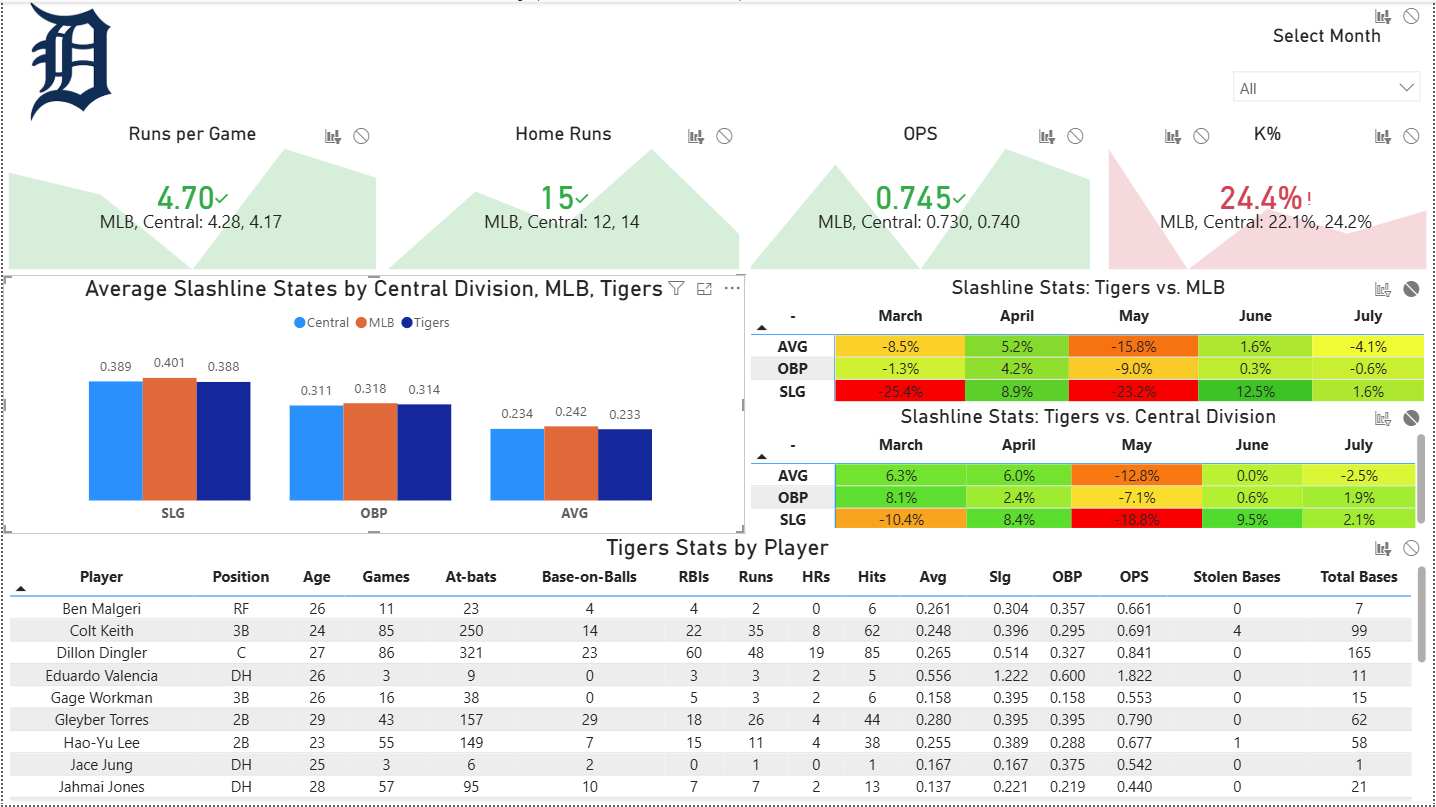

This screenshot's page, from the dashboard's own definition file:
{"tool":"powerbi","page":{"name":"Offensive Stats","canvas":[1280,720],"ordinal":0},"visuals":[{"type":"tableEx","title":"Tigers Stats by Player","fields":{"Values":["tigers players hitting.player","tigers players hitting.position","tigers players hitting.age","tigers players hitting.gamesPlayed","tigers players hitting.atBats","tigers players hitting.baseOnBalls","tigers players hitting.rbi","tigers players hitting.runs","tigers players hitting.homeRuns","tigers players hitting.hits","tigers players hitting.avg","tigers players hitting.slg"]},"box":[0,483.6,1280,236.7],"z":0},{"type":"slicer","title":"Select Month","fields":{"Values":["BridgeTable.MonthName"]},"box":[1026.6,0,253.4,107.7],"z":1000},{"type":"kpi","title":"Home Runs","fields":{"Indicator":["BridgeTable.3TigersHRs"],"Goal":["BridgeTable.3CentralHRs","BridgeTable.3MLBHRs"],"TrendLine":["BridgeTable.MonthName"]},"box":[227.4,117,254.3,127.2],"z":2000},{"type":"kpi","title":"OPS","fields":{"Goal":["Avg(CentralHitting2026.OPS)","Avg(MLBHitting2026.OPS)"],"TrendLine":["BridgeTable.MonthName"],"Indicator":["Avg(TigersHitting2026.OPS)"]},"box":[481.7,117,246.9,127.2],"z":3000},{"type":"kpi","title":"K%","fields":{"Goal":["BridgeTable.2MLBK%","BridgeTable.2CentralK%"],"Indicator":["BridgeTable.2TigersK%"],"TrendLine":["BridgeTable.MonthName"]},"box":[728.6,117,246,127.2],"z":4000},{"type":"image","box":[0,0,122.5,117],"z":5000},{"type":"textbox","box":[122.5,0,663.7,117],"z":6000},{"type":"clusteredColumnChart","title":"Average Slashline Stats by Central Division, MLB, Tigers","fields":{"Y":["Avg(TigersCentralMLB.Value)"],"Category":["TigersCentralMLB.Slashline"],"Series":["TigersCentralMLB.Category"]},"box":[0,243.6,664.5,240],"z":7000},{"type":"pivotTable","title":"Slashline Stats: Tigers vs. MLB","fields":{"Columns":["BridgeTable.MonthName"],"Rows":["TigersCentralMLB.Slashline"],"Values":["TigersCentralMLB.%Diff TigersVsMLB"]},"box":[664.5,243.6,615.2,120],"z":8000},{"type":"kpi","title":"Runs per Game","fields":{"Goal":["BridgeTable.MLBRunsPerGame","BridgeTable.1CentralRunsPerGame"],"TrendLine":["BridgeTable.MonthName"],"Indicator":["BridgeTable.1TigersRunsPerGame"]},"box":[0,123.5,227.4,120.7],"z":9000},{"type":"pivotTable","title":"Slashline Stats: Tigers vs. Central Division","fields":{"Columns":["BridgeTable.MonthName"],"Rows":["TigersCentralMLB.Slashline"],"Values":["TigersCentralMLB.%Diff TigersVsCentral"]},"box":[664.6,360.1,615.4,123.5],"z":10000},{"type":"tableEx","fields":{"Values":["Sheet1.Months","Sum(Sheet1.Win)","Sum(Sheet1.Loss)"]},"box":[786.2,0,240.4,107.7],"z":11000},{"type":"textbox","box":[972.8,107.7,307.2,136.4],"z":12000}]}

Visuals, with their boxes in screenshot pixels (x1, y1, x2, y2), scaled from the page's 1280x720 canvas onto the 1436x807 screenshot:
"Tigers Stats by Player" tableEx: <region>0, 542, 1435, 806</region>
"Select Month" slicer: <region>1152, 0, 1435, 121</region>
"Home Runs" kpi: <region>255, 131, 540, 274</region>
"OPS" kpi: <region>540, 131, 817, 274</region>
"K%" kpi: <region>817, 131, 1093, 274</region>
image: <region>0, 0, 137, 131</region>
textbox: <region>137, 0, 882, 131</region>
"Average Slashline Stats by Central Division, MLB, Tigers" clusteredColumnChart: <region>0, 273, 745, 542</region>
"Slashline Stats: Tigers vs. MLB" pivotTable: <region>745, 273, 1435, 408</region>
"Runs per Game" kpi: <region>0, 138, 255, 274</region>
"Slashline Stats: Tigers vs. Central Division" pivotTable: <region>746, 404, 1435, 542</region>
tableEx - Sheet1.Months x Sum(Sheet1.Win): <region>882, 0, 1152, 121</region>
textbox: <region>1091, 121, 1435, 274</region>
